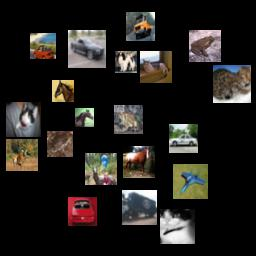airplane: (173, 164, 208, 199)
automobile: (68, 30, 106, 68), (169, 124, 198, 153), (68, 197, 97, 226), (30, 33, 56, 59)
cat: (213, 65, 251, 103), (160, 209, 195, 244), (6, 102, 41, 137), (140, 51, 172, 83)
deer: (85, 153, 117, 185), (6, 139, 38, 171)
dog: (115, 51, 137, 73)
frog: (189, 30, 221, 62), (114, 105, 143, 134), (47, 131, 73, 157)
truck: (122, 190, 157, 225), (126, 12, 155, 41)
